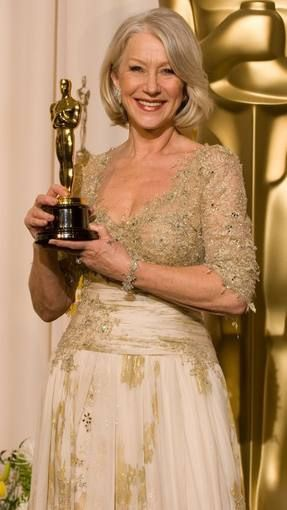hand: (27, 188, 90, 243)
